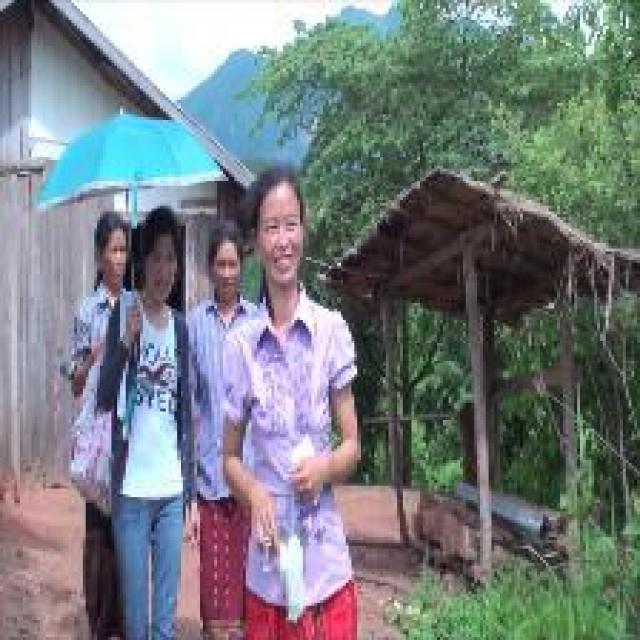other: (204, 490, 365, 628)
